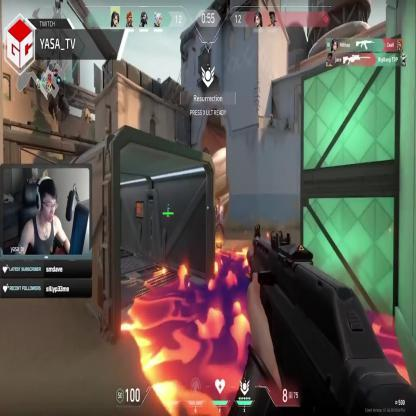enemy: (214, 197, 225, 247)
enemy_head: (217, 198, 221, 208)
